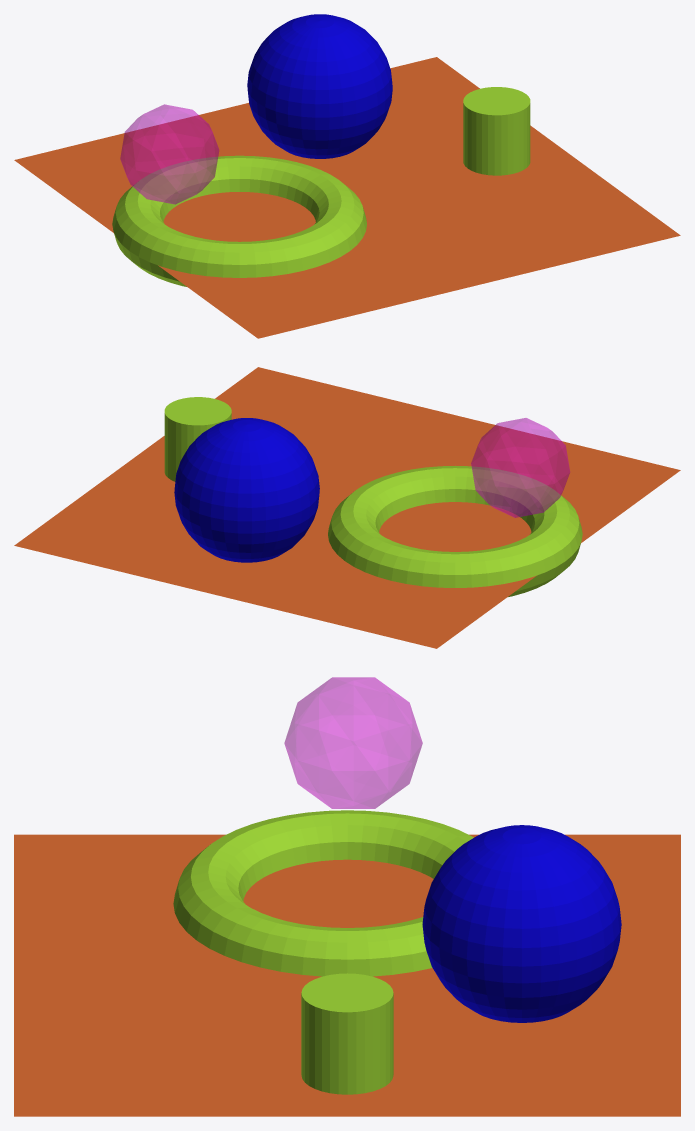
File: daeokbl.dae
The picture shows the model from 3 angles, top to bottom: view 1: azimuth 30°, elevation 25°; view 2: azimuth 150°, elevation 25°; view 3: azimuth 270°, elevation 25°; orthographic projection. The views are drawn at different scales.
Parts seen in each view (by area): view 1: Grid, Torus, Sphere, Icosphere, Cylinder; view 2: Grid, Torus, Sphere, Icosphere, Cylinder; view 3: Grid, Sphere, Torus, Icosphere, Cylinder.
Part boxes in pixels (x1,y1,x2,y2): Grid: [14, 57, 680, 338]; Torus: [112, 155, 366, 286]; Sphere: [247, 14, 392, 158]; Icosphere: [120, 104, 219, 204]; Cylinder: [463, 87, 530, 175]; Grid: [14, 367, 680, 648]; Torus: [328, 465, 582, 596]; Sphere: [174, 418, 319, 562]; Icosphere: [471, 418, 569, 517]; Cylinder: [164, 397, 231, 481]; Grid: [14, 834, 680, 1116]; Sphere: [422, 825, 621, 1022]; Torus: [173, 810, 473, 976]; Icosphere: [284, 677, 422, 808]; Cylinder: [301, 973, 393, 1094].
Bounding box in the file's own units: 14.72 × 14.49 × 5.03.
